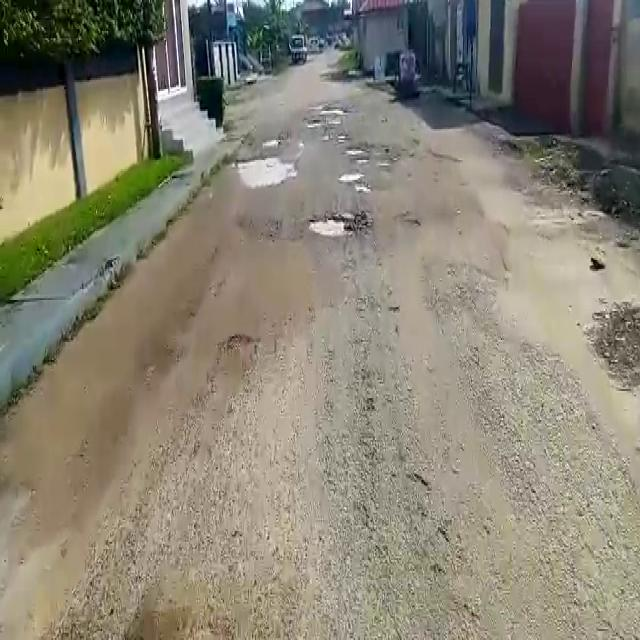Pothole: (232, 151, 293, 186), (305, 210, 360, 240), (340, 172, 368, 186), (347, 145, 376, 158)
